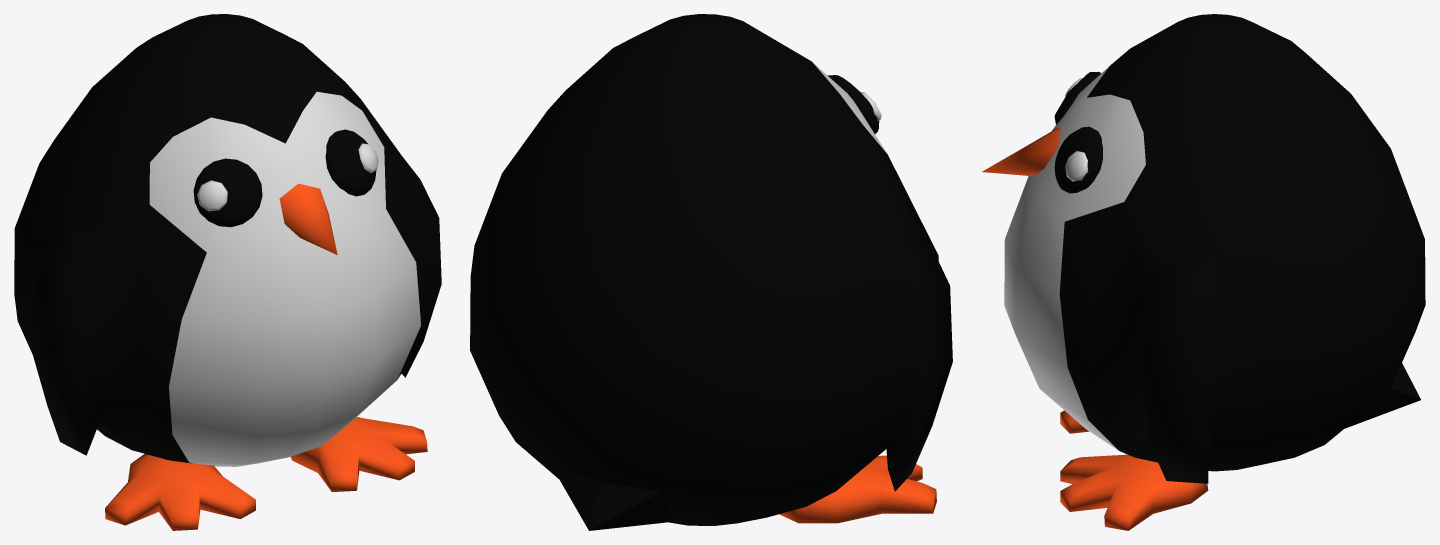
Rendered from MrBiku - copia.FBX.
3 views of the same model, side by side, from view 1: azimuth 30°, elevation 25°; view 2: azimuth 150°, elevation 25°; view 3: azimuth 270°, elevation 25° (orthographic). The views are drawn at different scales.
Parts seen in each view (by area): view 1: Sphere008; view 2: Sphere008; view 3: Sphere008.
Boxes of the visible parts, x1,y1,x2,y2 form: Sphere008: [14, 14, 441, 530]; Sphere008: [470, 14, 952, 530]; Sphere008: [982, 14, 1425, 530].
Size of the model in its own units: 106 by 111 by 104.
